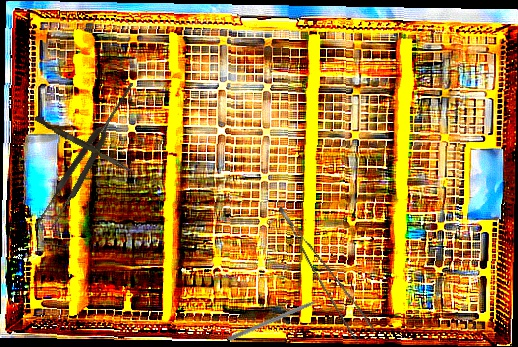Pusher: (32, 115, 138, 175), (227, 293, 332, 343)
Tissue Forceps: (35, 78, 142, 232), (278, 194, 376, 346)
